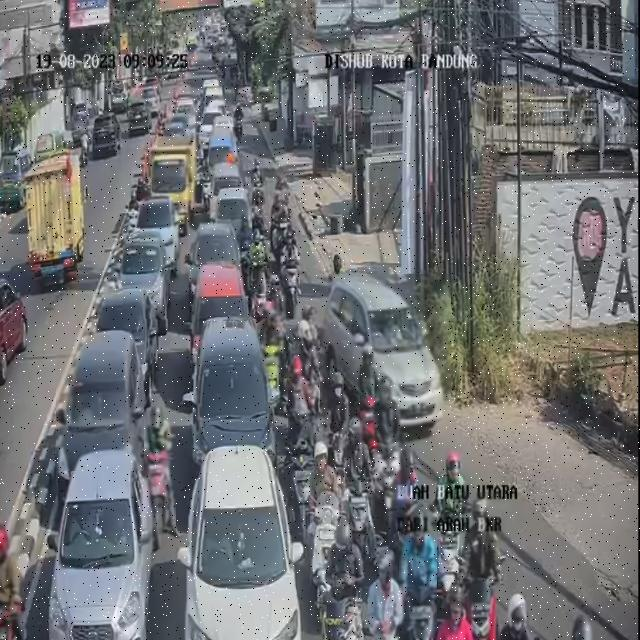cars: (180, 449, 309, 640), (320, 274, 451, 444), (49, 449, 160, 640), (190, 314, 272, 469), (56, 328, 144, 471), (188, 263, 248, 374), (98, 284, 161, 389), (124, 228, 174, 320), (185, 216, 238, 302), (140, 193, 181, 267), (213, 187, 252, 251), (208, 161, 244, 202), (210, 127, 236, 181), (167, 113, 198, 154), (201, 76, 224, 113), (203, 101, 224, 136)
motorcycle: (323, 510, 369, 638), (462, 492, 500, 640), (375, 370, 410, 530), (313, 448, 348, 605), (399, 501, 437, 638), (344, 417, 375, 584), (438, 448, 472, 587), (144, 412, 176, 549), (358, 555, 405, 640), (0, 516, 24, 634), (288, 346, 318, 440), (438, 573, 471, 640), (294, 307, 319, 394), (329, 368, 353, 458), (360, 336, 380, 438), (260, 302, 286, 374), (250, 230, 273, 302), (280, 224, 301, 298), (499, 602, 534, 640), (560, 615, 599, 640), (252, 160, 268, 203), (273, 174, 287, 217)
truck: (152, 142, 197, 220)
